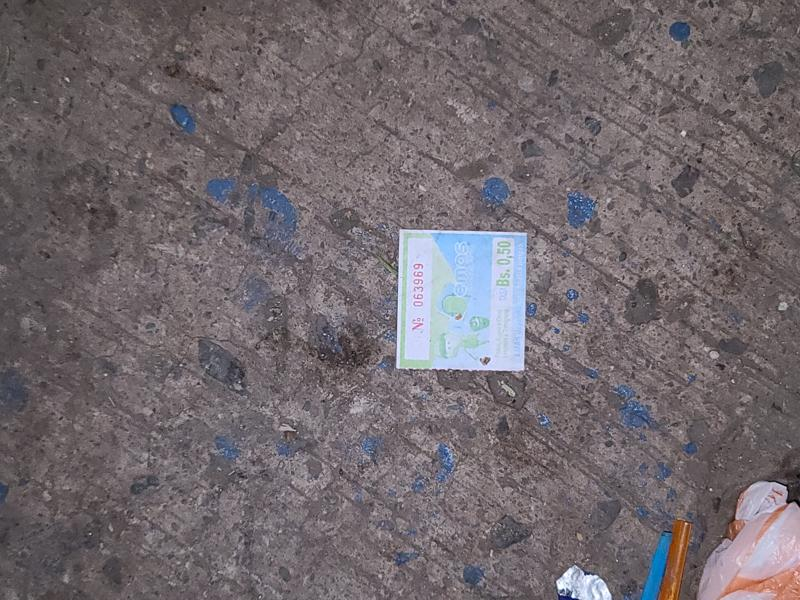papel: (395, 230, 529, 376)
